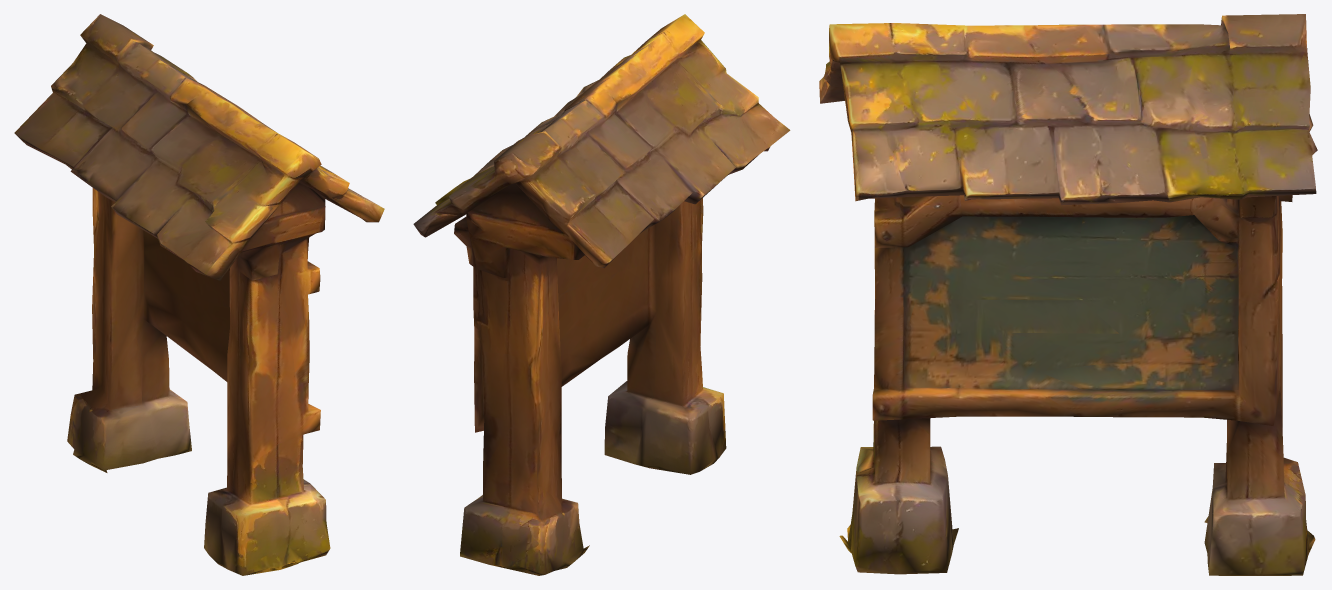
File: model-prop-lock-toll-board-01.glb
The picture shows the model from 3 angles, left to right: view 1: azimuth 30°, elevation 25°; view 2: azimuth 150°, elevation 25°; view 3: azimuth 270°, elevation 25°; orthographic projection. The views are drawn at different scales.
Parts seen in each view (by area): view 1: tripo_node_ce081618-a06a-41e3-a31e-3a9487ffa1d6; view 2: tripo_node_ce081618-a06a-41e3-a31e-3a9487ffa1d6; view 3: tripo_node_ce081618-a06a-41e3-a31e-3a9487ffa1d6.
Boxes of the visible parts, <box> form: tripo_node_ce081618-a06a-41e3-a31e-3a9487ffa1d6: <box>14,14,384,575</box>; tripo_node_ce081618-a06a-41e3-a31e-3a9487ffa1d6: <box>413,14,790,575</box>; tripo_node_ce081618-a06a-41e3-a31e-3a9487ffa1d6: <box>819,14,1317,575</box>.
Size of the model in its own units: 0.8948 by 1.8 by 1.54.
1 material, 1 textured.
